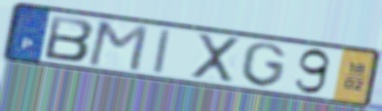9: (293, 47, 333, 95)
B: (42, 13, 97, 63)
G: (239, 41, 289, 90)
I: (151, 27, 174, 77)
M: (85, 19, 151, 74)
X: (190, 32, 242, 85)
